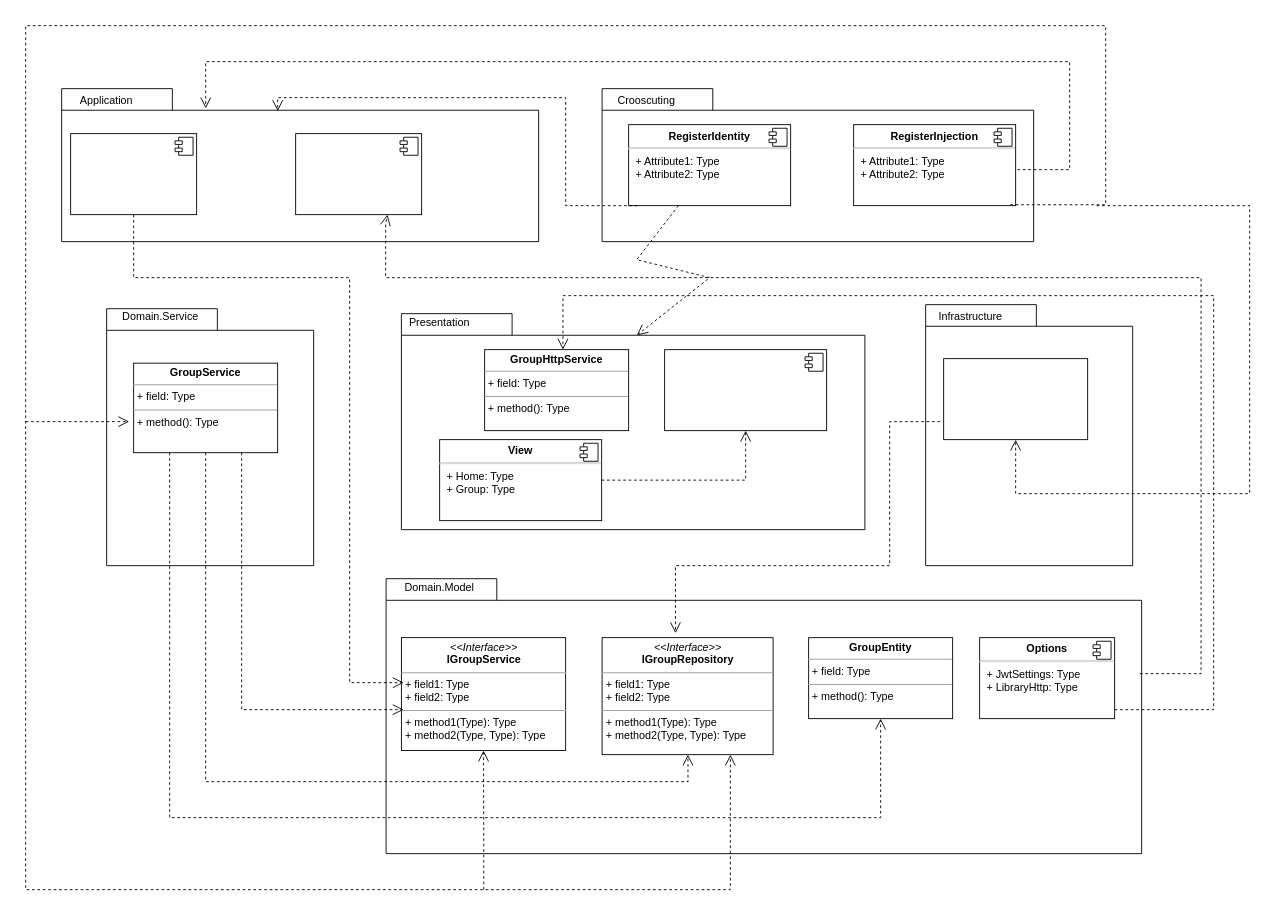
Some shapes in this 1276 by 916 pixel diagram are drawn without their labels. Each missing label, with the centre of its shape:
AuthController + Attribute1: Type + Attribute2: Type: (x=358, y=174)
Controller + HomeController: Type + GroupController: Type: (x=745, y=390)
GroupController + Attribute1: Type + Attribute2: Type: (x=133, y=174)
GroupRepository + field: Type + method(): Type: (x=1015, y=399)
